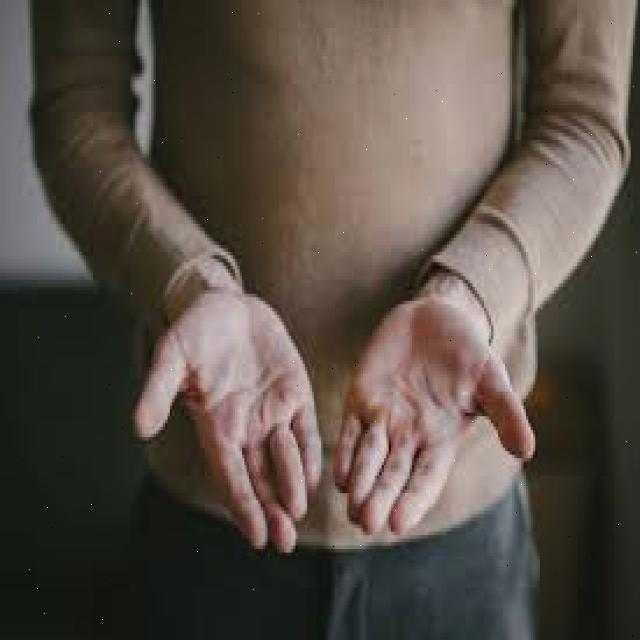no_apron: (330, 284, 534, 568), (136, 284, 328, 552)
